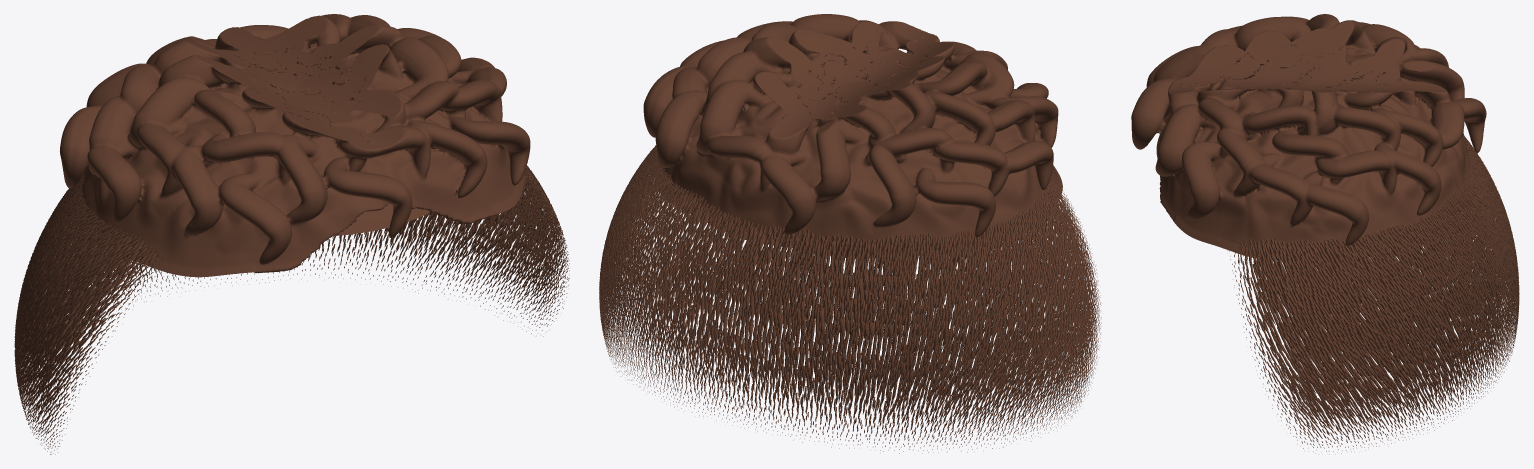
The model's file is Masculine-curly-top-cowboy254-hair.glb.
3 views of the same model, side by side, from view 1: azimuth 30°, elevation 25°; view 2: azimuth 150°, elevation 25°; view 3: azimuth 270°, elevation 25° (orthographic). The views are drawn at different scales.
Visible parts, largest first — view 1: 226 hair / Hair252 / sculpted curl groups, 226 hair / Hair254 / rooted short groom; view 2: 226 hair / Hair254 / rooted short groom, 226 hair / Hair252 / sculpted curl groups; view 3: 226 hair / Hair252 / sculpted curl groups, 226 hair / Hair254 / rooted short groom.
Boxes of the visible parts, box(x1,y1,x2,y2) form: 226 hair / Hair252 / sculpted curl groups: box(60, 14, 530, 277); 226 hair / Hair254 / rooted short groom: box(14, 165, 569, 454); 226 hair / Hair254 / rooted short groom: box(599, 145, 1101, 453); 226 hair / Hair252 / sculpted curl groups: box(643, 14, 1062, 258); 226 hair / Hair252 / sculpted curl groups: box(1131, 14, 1486, 260); 226 hair / Hair254 / rooted short groom: box(1156, 135, 1519, 454).
Bounding box in the file's own units: 0.9716 × 0.6382 × 0.7501.
